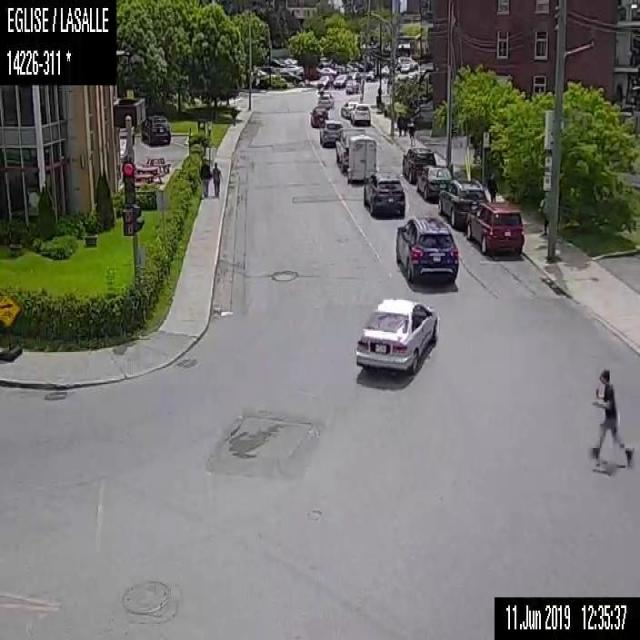pedestrian: (587, 368, 634, 465), (209, 159, 223, 199), (198, 156, 210, 197), (537, 197, 548, 236), (486, 172, 496, 203), (407, 115, 415, 146), (395, 110, 403, 136), (401, 112, 408, 136)
vehicle: (355, 295, 438, 372), (393, 213, 459, 290), (464, 201, 524, 256), (437, 177, 485, 227), (335, 126, 376, 182), (361, 169, 406, 218), (415, 161, 453, 202), (400, 144, 436, 184), (139, 114, 170, 146), (318, 117, 342, 147), (350, 102, 370, 124), (278, 68, 302, 85), (309, 106, 327, 126), (332, 71, 350, 87), (341, 99, 356, 118), (314, 73, 331, 89), (317, 91, 333, 107), (399, 58, 417, 72), (343, 79, 358, 94)
